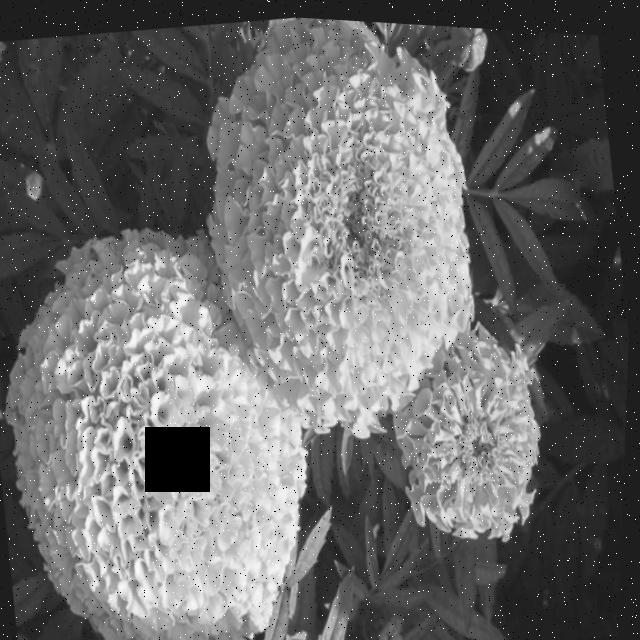marigold: (0, 2, 597, 640)
